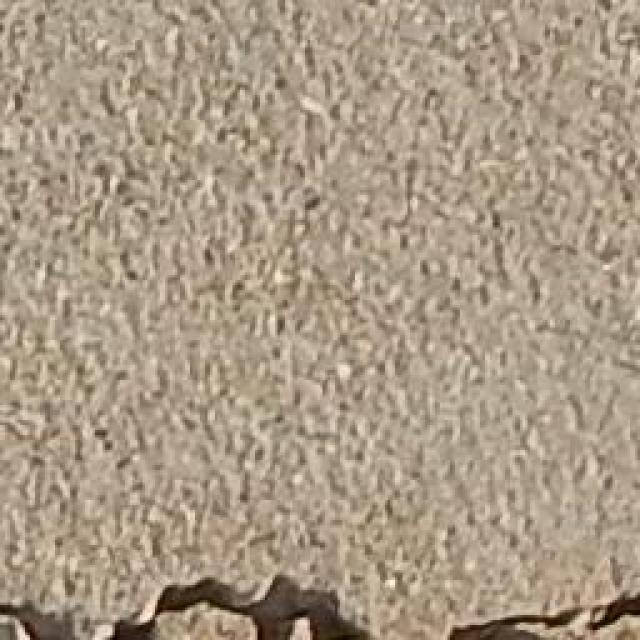concrete-crack: (101, 569, 382, 640), (446, 587, 640, 640), (0, 597, 40, 640)
